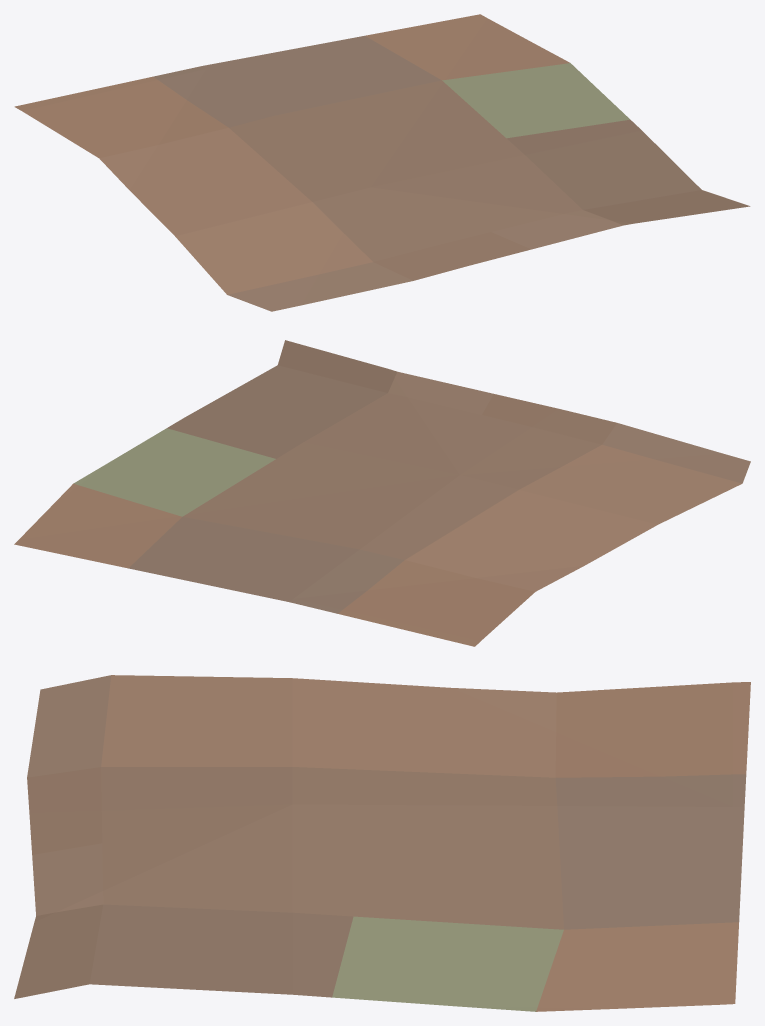
File: farm_35_24_soil.glb
The picture shows the model from 3 angles, top to bottom: view 1: azimuth 30°, elevation 25°; view 2: azimuth 150°, elevation 25°; view 3: azimuth 270°, elevation 25°; orthographic projection. The views are drawn at different scales.
Parts seen in each view (by area): view 1: geometry_0; view 2: geometry_0; view 3: geometry_0.
Boxes of the visible parts, left/top/right/bottom form: geometry_0: left=14, top=14, right=750, bottom=311; geometry_0: left=14, top=340, right=750, bottom=646; geometry_0: left=14, top=675, right=750, bottom=1011.
Bounding box in the file's own units: 141 × 4.23 × 134.
